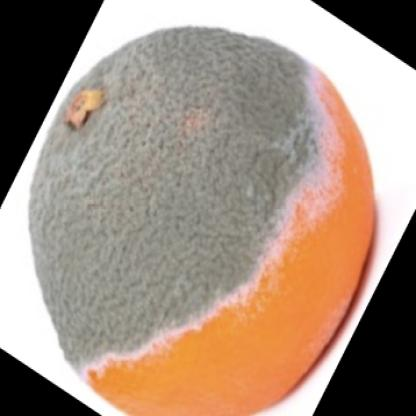rotten: (31, 27, 379, 416)
